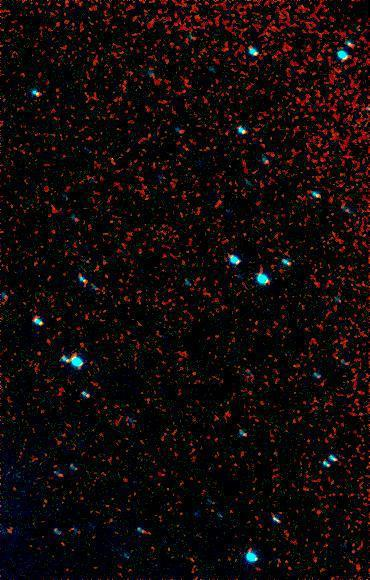star: (0, 514, 25, 544)
